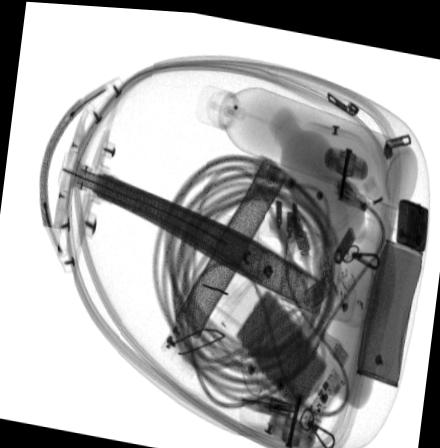Lighter: (396, 193, 428, 246)
Powerbank: (228, 276, 347, 430)
Sprayer: (196, 80, 418, 203)
